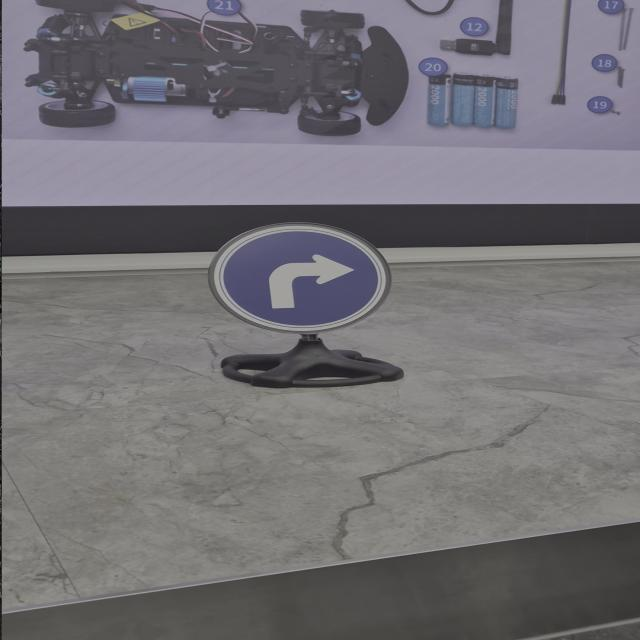right_dierection: (194, 223, 405, 331)
